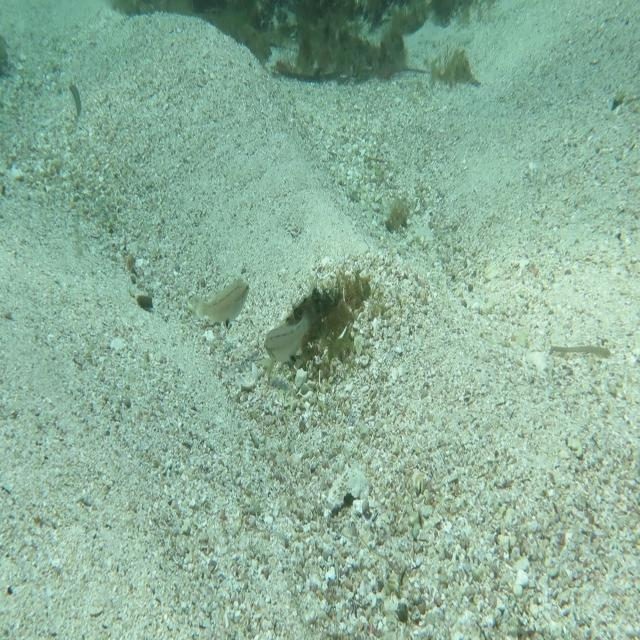Coris_julis_female: (66, 78, 88, 132)
LF: (258, 274, 344, 382)
female: (263, 292, 322, 367)
nest: (290, 271, 387, 386)
other_fish: (184, 275, 255, 347)
